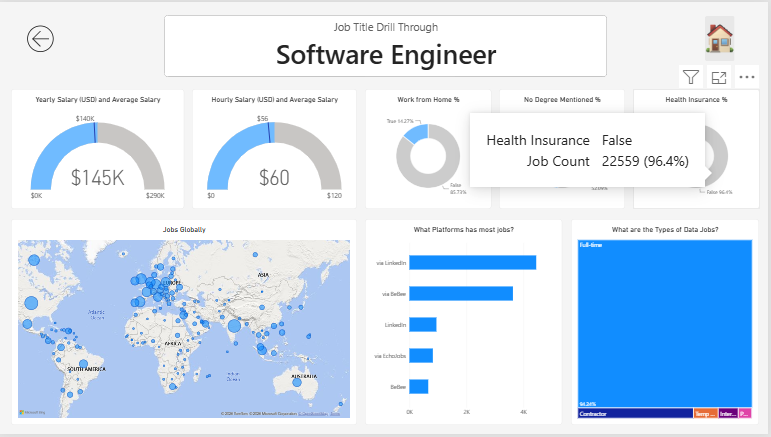

This screenshot's page, from the dashboard's own definition file:
{"tool":"powerbi","page":{"name":"Job Title Drill Through","canvas":[1920,1080],"ordinal":2},"visuals":[{"type":"cardVisual","fields":{"Data":["Min(job_postings_flat.job_title_short)"]},"box":[411.1,33.3,1108.9,155.6],"z":1000},{"type":"actionButton","box":[28.9,34.2,142.1,113.2],"z":2000},{"type":"gauge","fields":{"TargetValue":["Avg(Job_Postings_Flat.salary_year_avg)1"],"Y":["Median(Job_Postings_Flat.salary_year_avg)"]},"box":[28.4,216.4,432.8,300],"z":3000},{"type":"gauge","fields":{"TargetValue":["Avg(Job_Postings_Flat.salary_hour_avg)1"],"Y":["Median(Job_Postings_Flat.salary_hour_avg)"]},"box":[480.6,216.4,411.9,300],"z":4000},{"type":"donutChart","title":"Work from Home %","fields":{"Category":["Job_Postings_Flat.job_work_from_home"],"Y":["CountNonNull(Job_Postings_Flat.job_work_from_home)"]},"box":[911.9,216.4,315.8,300],"z":5000},{"type":"donutChart","title":"Health Insurance %","fields":{"Category":["Job_Postings_Flat.job_health_insurance"],"Y":["CountNonNull(Job_Postings_Flat.job_health_insurance)"]},"box":[1583.6,216.4,315.8,300],"z":6000},{"type":"donutChart","title":"No Degree Mentioned %","fields":{"Category":["Job_Postings_Flat.job_no_degree_mention"],"Y":["CountNonNull(Job_Postings_Flat.job_no_degree_mention)"]},"box":[1247.5,217.5,315,300],"z":7000},{"type":"map","title":"Jobs Globally","fields":{"Category":["Job_Postings_Flat.job_country"],"Size":["CountNonNull(Job_Postings_Flat.job_title_short)"]},"box":[27.5,542.5,865,515],"z":8000},{"type":"treemap","title":"What are the Types of Data Jobs?","fields":{"Group":["Job_Postings_Flat.job_schedule_type"],"Values":["CountNonNull(Job_Postings_Flat.job_title_short)"]},"box":[1427.5,542.5,470,515],"z":9000},{"type":"barChart","title":"What Platforms has most jobs?","fields":{"Category":["Job_Postings_Flat.job_via"],"Y":["CountNonNull(Job_Postings_Flat.job_via)"]},"box":[912.5,542.5,492.5,515],"z":10000},{"type":"actionButton","box":[1762.4,34,74.4,112.7],"z":11000}]}

Visuals, with their boxes in screenshot pixels (x1, y1, x2, y2), scaled from the page's 1920x1080 canvas onto the 771x437 screenshot:
cardVisual - Min(job_postings_flat.job_title_short): BBox(165, 13, 610, 76)
actionButton: BBox(12, 14, 69, 60)
gauge - Avg(Job_Postings_Flat.salary_year_avg)1 x Median(Job_Postings_Flat.salary_year_avg): BBox(11, 88, 185, 209)
gauge - Avg(Job_Postings_Flat.salary_hour_avg)1 x Median(Job_Postings_Flat.salary_hour_avg): BBox(193, 88, 358, 209)
"Work from Home %" donutChart: BBox(366, 88, 493, 209)
"Health Insurance %" donutChart: BBox(636, 88, 763, 209)
"No Degree Mentioned %" donutChart: BBox(501, 88, 627, 209)
"Jobs Globally" map: BBox(11, 220, 358, 428)
"What are the Types of Data Jobs?" treemap: BBox(573, 220, 762, 428)
"What Platforms has most jobs?" barChart: BBox(366, 220, 564, 428)
actionButton: BBox(708, 14, 738, 59)
